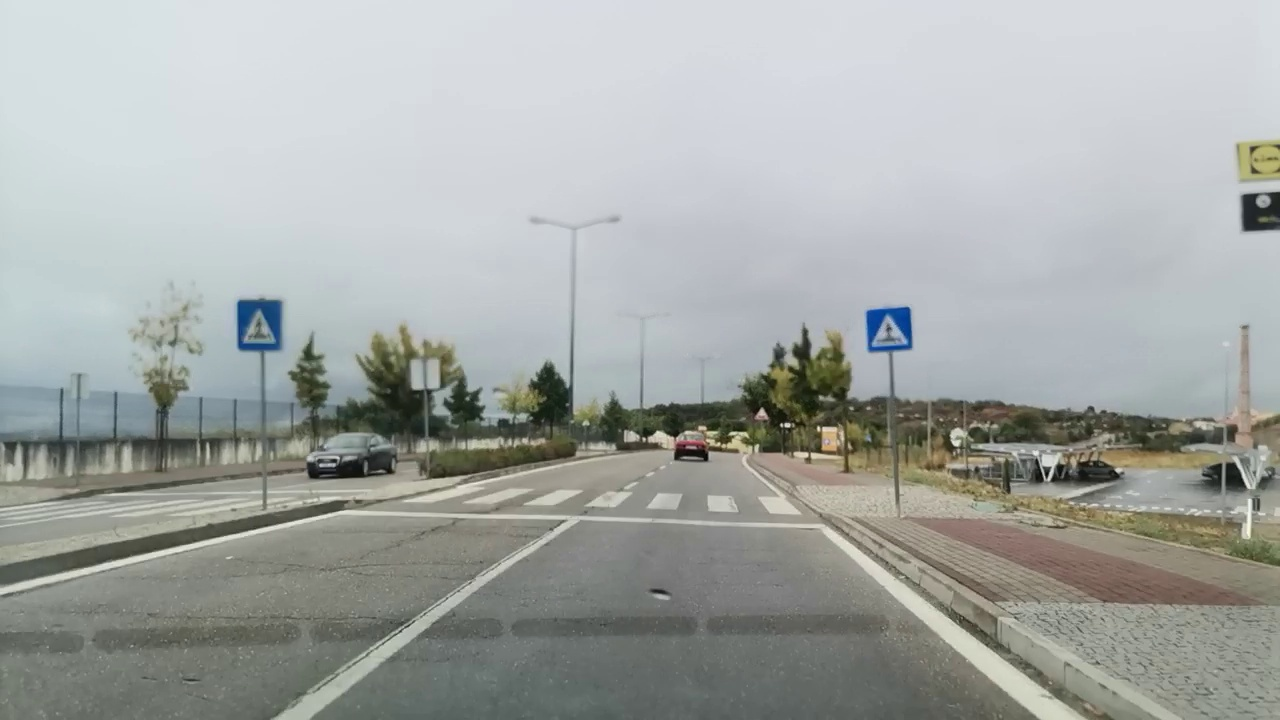Stairs: (409, 481, 808, 520), (6, 492, 258, 516)
